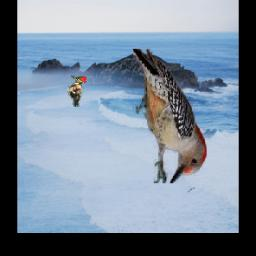Woodpecker: (134, 49, 208, 183), (67, 76, 87, 107)
